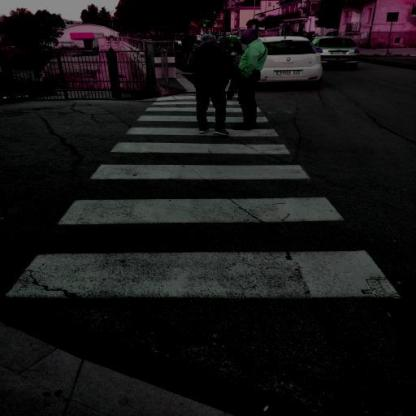crosswalk: (0, 190, 404, 316), (104, 125, 297, 159)
